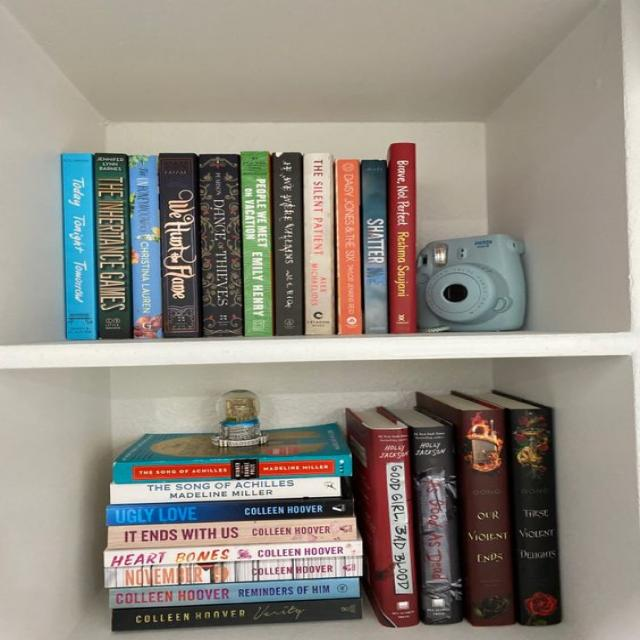book: (461, 408, 518, 627), (508, 410, 564, 627), (409, 428, 465, 623), (374, 429, 419, 626), (112, 599, 364, 631), (201, 154, 243, 336), (109, 579, 359, 609), (105, 558, 361, 587), (109, 519, 357, 548), (94, 154, 132, 339), (159, 153, 197, 338), (104, 541, 362, 568), (62, 153, 98, 340), (112, 455, 352, 483), (107, 498, 352, 525), (110, 477, 340, 504), (130, 155, 162, 339), (272, 152, 304, 335), (304, 153, 334, 334), (243, 151, 272, 336), (389, 142, 416, 334), (361, 161, 388, 334), (336, 159, 362, 334)
camera: (419, 234, 527, 331)
